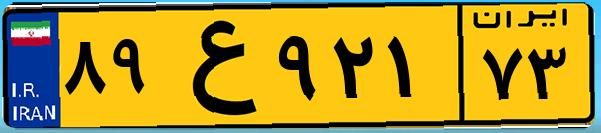1: (385, 28, 445, 110)
2: (330, 28, 385, 110)
3: (525, 38, 570, 115)
7: (475, 38, 525, 113)
8: (57, 26, 110, 100)
9: (270, 28, 330, 110), (110, 28, 158, 98)
ع: (158, 12, 270, 120)
